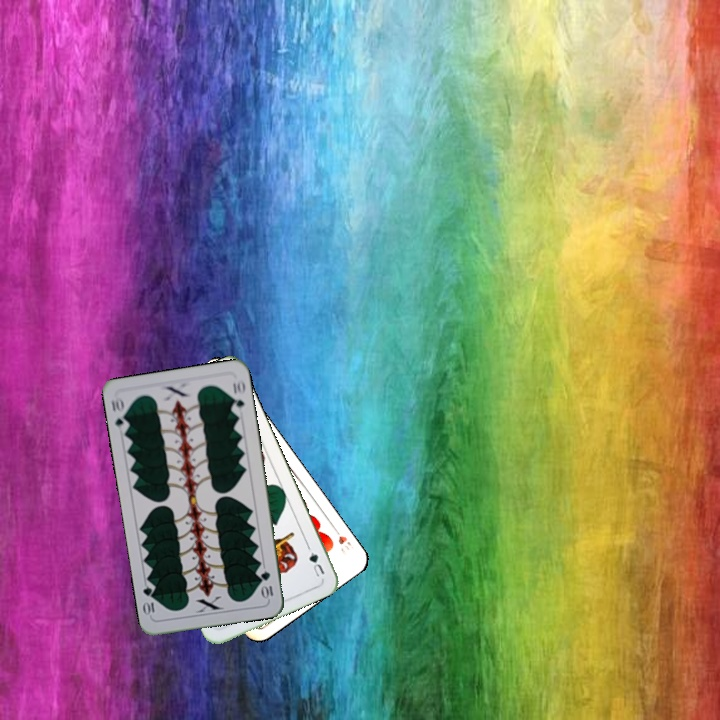G10: (107, 393, 131, 434), (257, 567, 276, 601)
GU: (305, 548, 327, 580)
H10: (328, 522, 357, 557)
